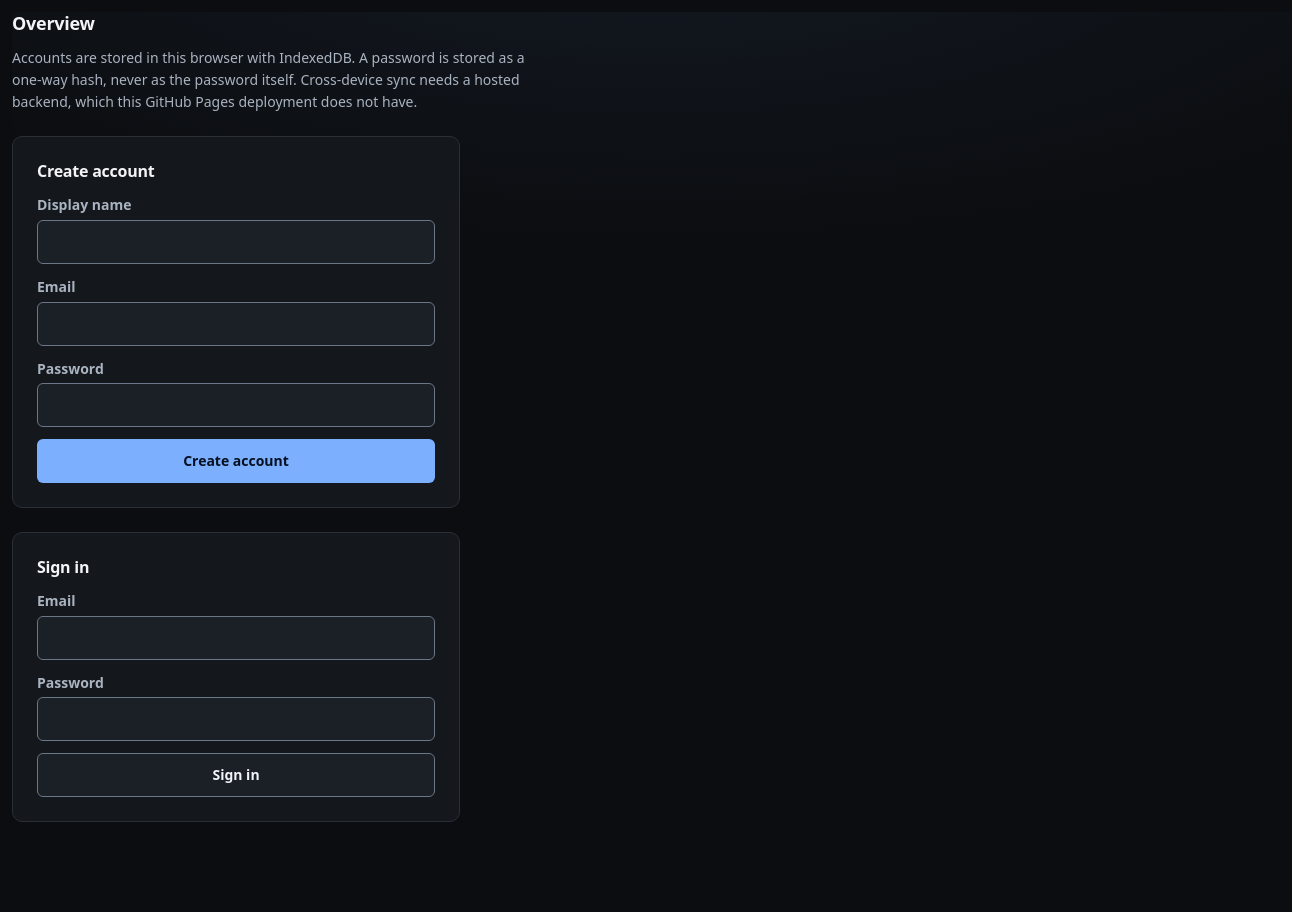
it: account settings › explains a failed sign-in instead of inventing a session
The width and height of the screenshot is (1292, 912).
Expected: the heading "Sign in" is shown, [37,556,89,578]
Type "alex@example.com" into the 2nd field labelled "Email" at (236, 638), box [37,616,435,660]
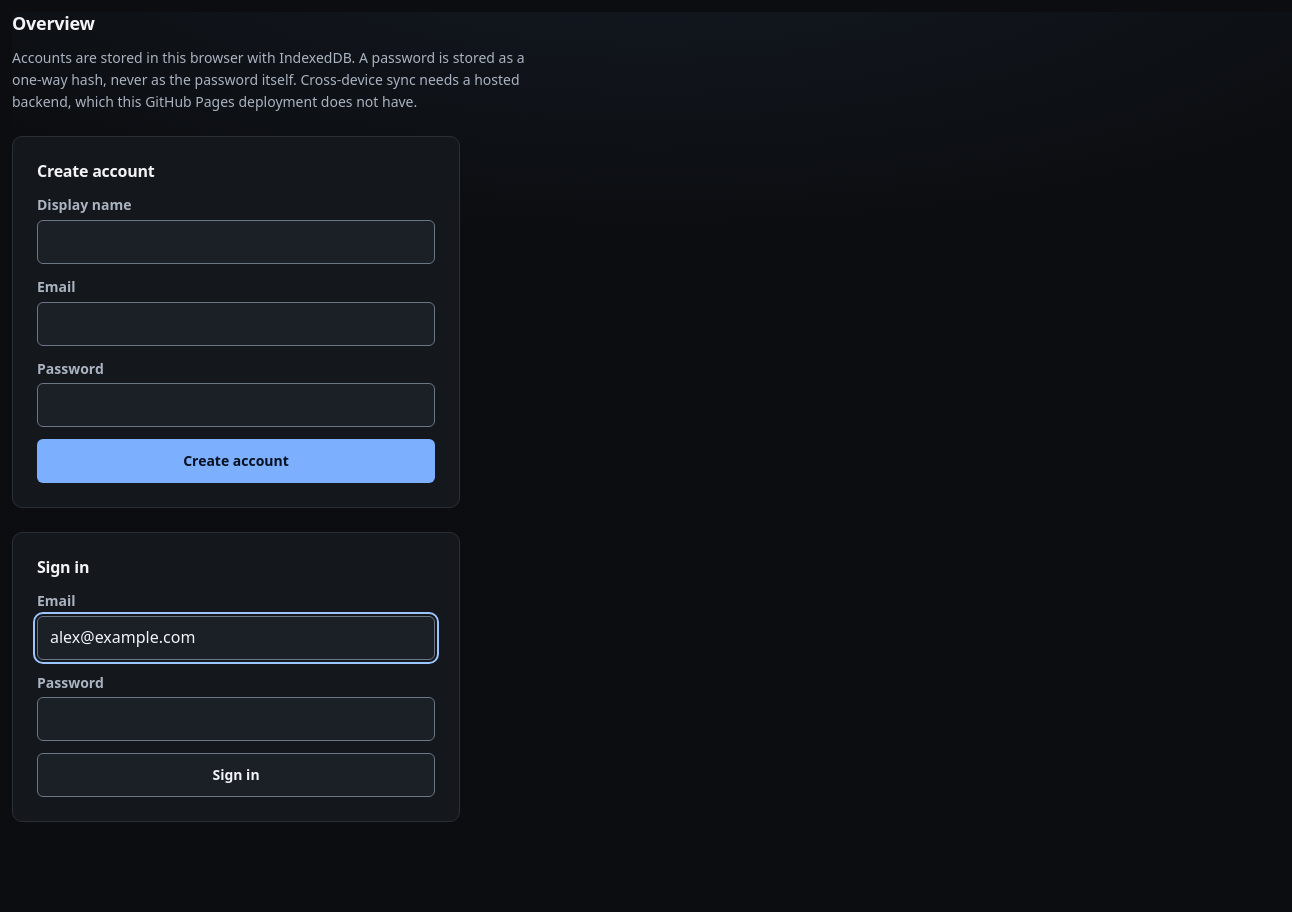
Type "nope nope" into the 2nd password field labelled "Password" at (236, 720), box [37,698,435,742]
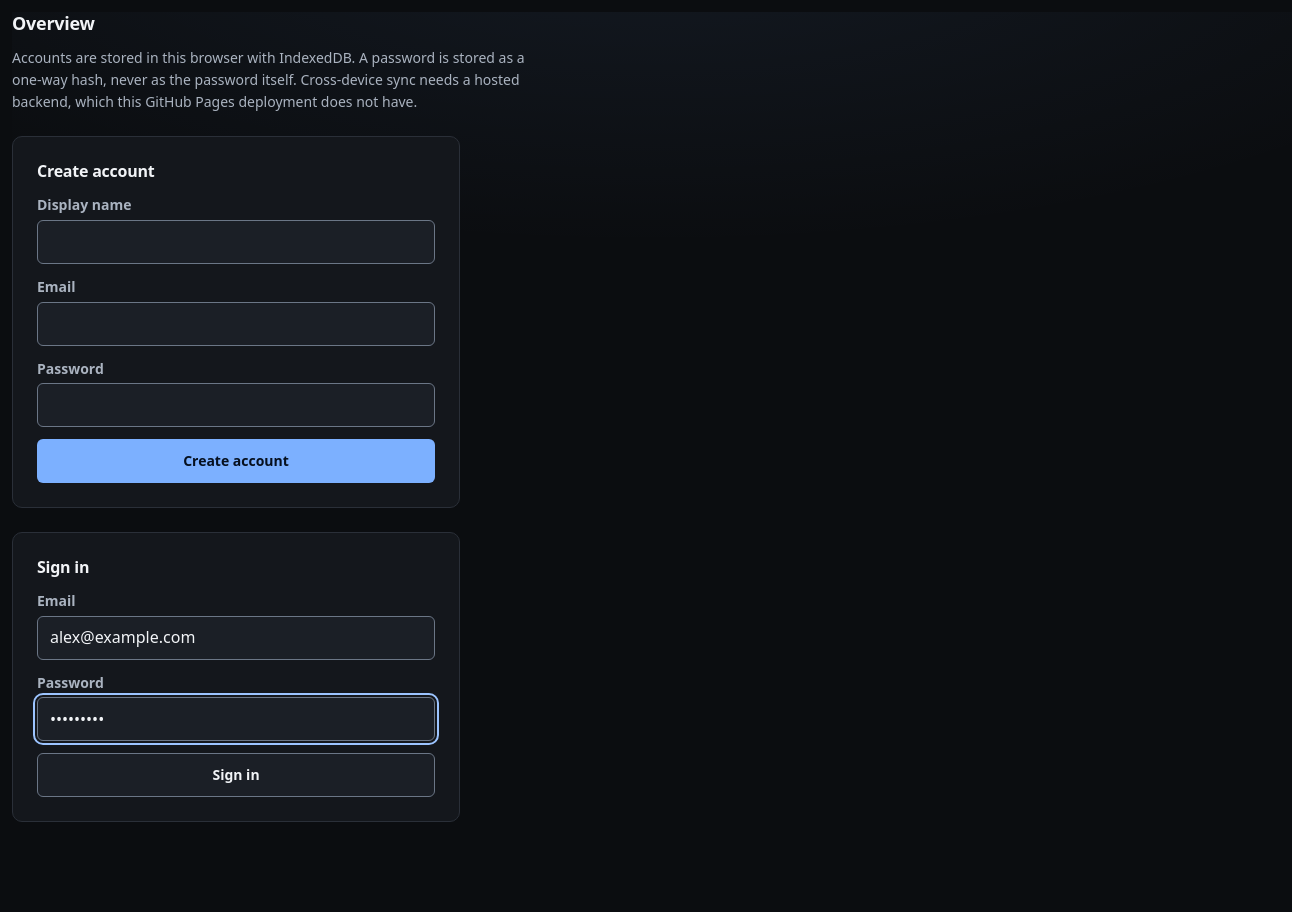
Click the button "Sign in" at (236, 776), box [37,754,435,798]
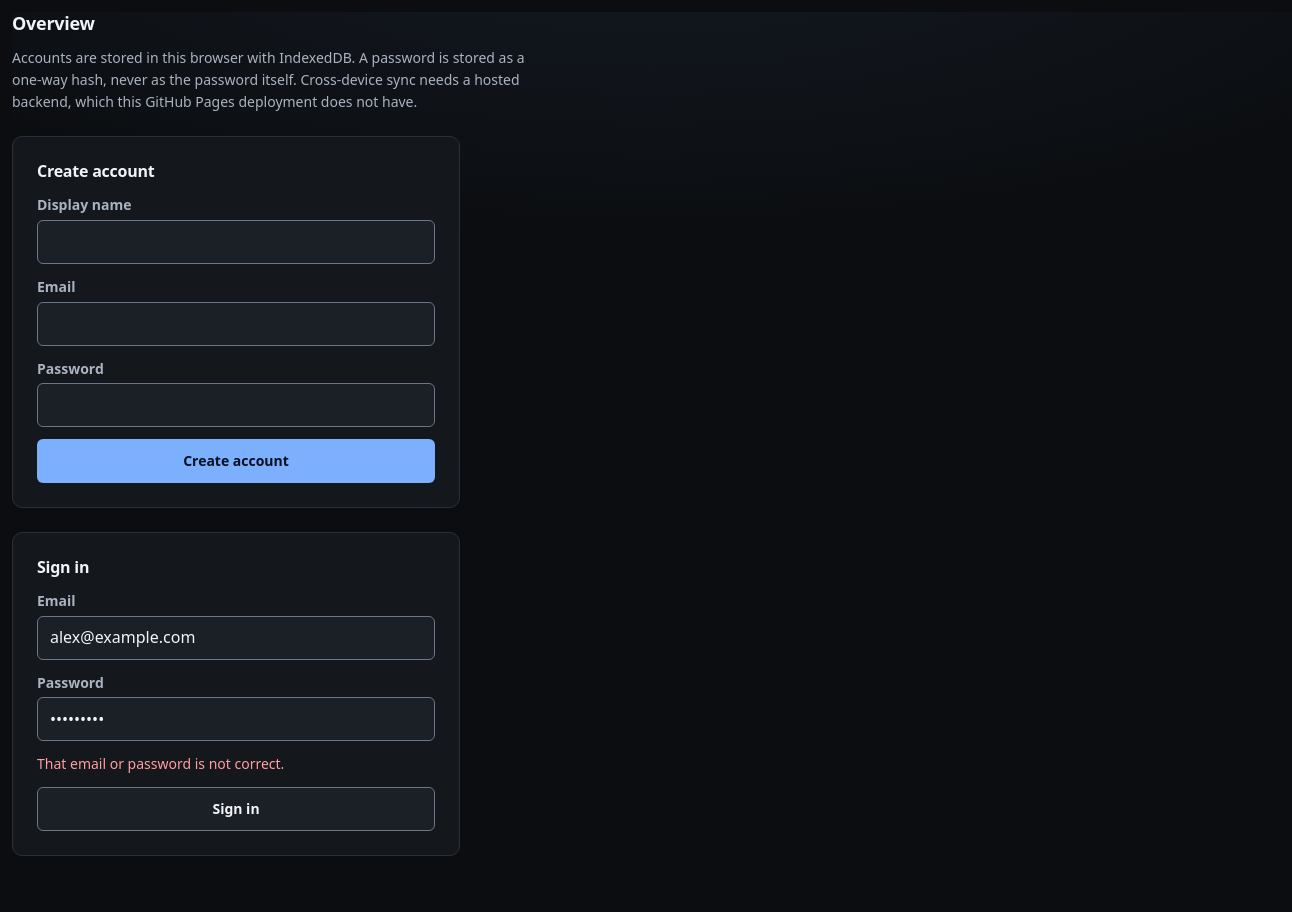
Expected: the heading "Sign in" is shown, [37,556,89,578]
Result: the message shows "email or password" at [37,754,284,774]
